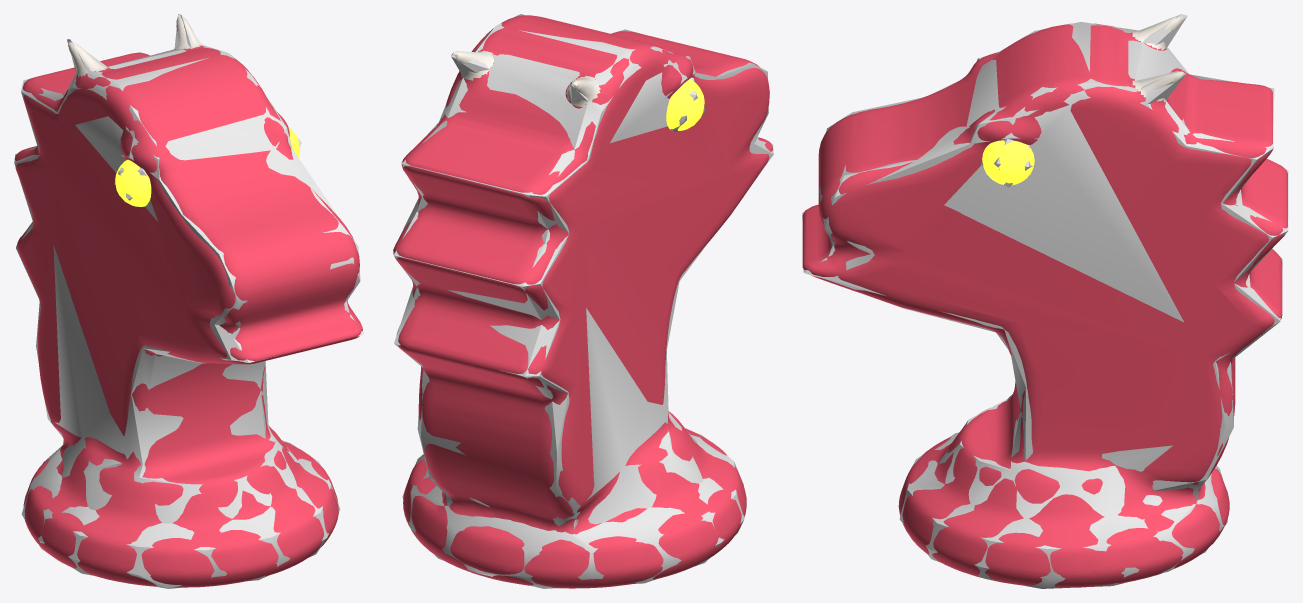
File: dragon.glb
3 views of the same model, side by side, from view 1: azimuth 30°, elevation 25°; view 2: azimuth 150°, elevation 25°; view 3: azimuth 270°, elevation 25° (orthographic). The views are drawn at different scales.
Parts seen in each view (by area): view 1: dragon, shadow; view 2: dragon, shadow; view 3: dragon, shadow.
Part boxes in pixels (bbox=[...]): dragon: bbox=[15, 14, 362, 587]; shadow: bbox=[14, 14, 364, 588]; dragon: bbox=[393, 15, 772, 588]; shadow: bbox=[393, 14, 773, 588]; dragon: bbox=[802, 16, 1287, 587]; shadow: bbox=[802, 14, 1288, 588].
Size of the model in its own units: 0.7198 by 1.15 by 1.05.
